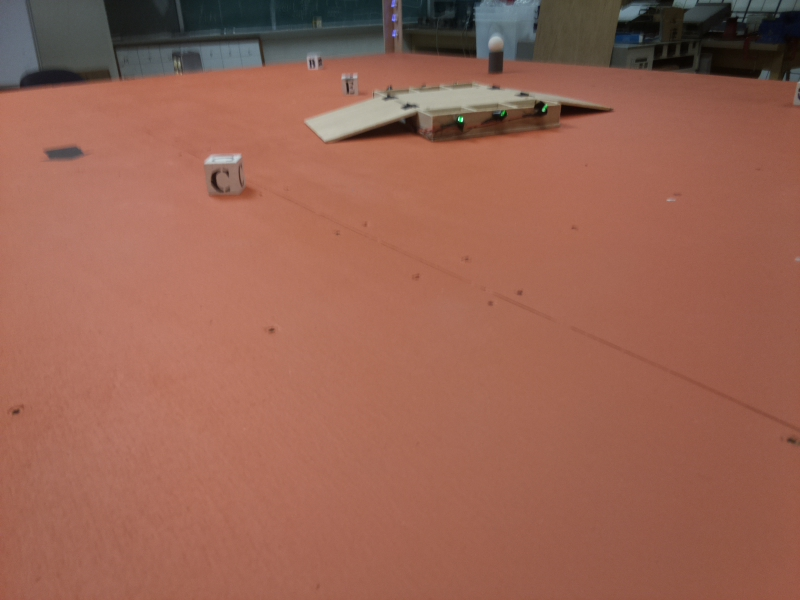blockB: (306, 55, 325, 70)
blockC: (200, 150, 248, 198)
blockE: (340, 70, 358, 96)
corner: (383, 1, 406, 60)
obstacle: (484, 37, 506, 75)
side: (420, 101, 566, 141)
slope: (299, 97, 416, 141), (517, 84, 619, 123)
start: (39, 146, 95, 162)
